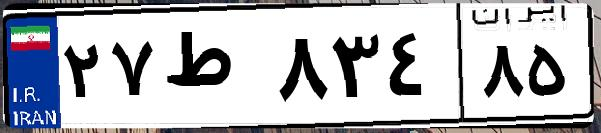2: (57, 26, 110, 100)
3: (330, 28, 385, 110)
4: (385, 28, 445, 110)
5: (525, 38, 570, 115)
7: (110, 28, 158, 98)
8: (270, 28, 330, 110), (475, 38, 525, 113)
ط: (158, 20, 270, 120)
